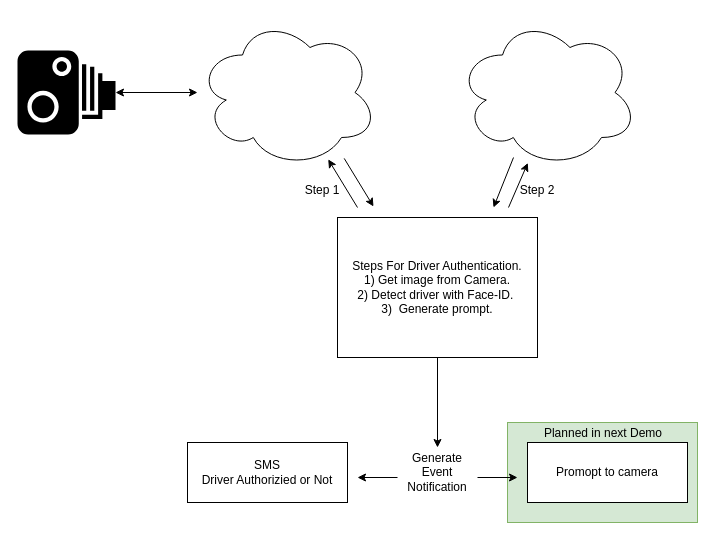
Some shapes in this 715 by 540 pixel diagram are drawn without their labels. The shapes that lost their labels are listed below. From the top down, each one's centre as x and y in pixels, then its label:
point 287,92: Camera API
point 547,92: Face-ID Cloud APIs
